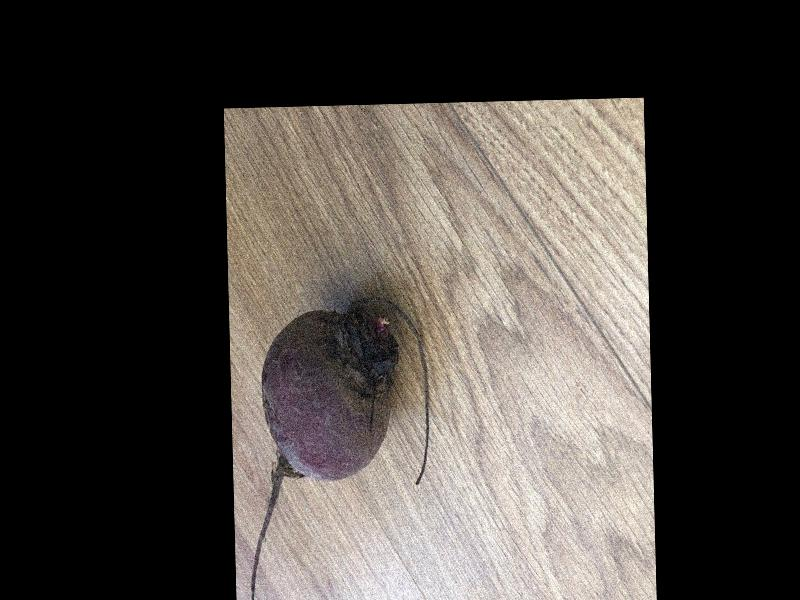Beet: (243, 298, 433, 600)
